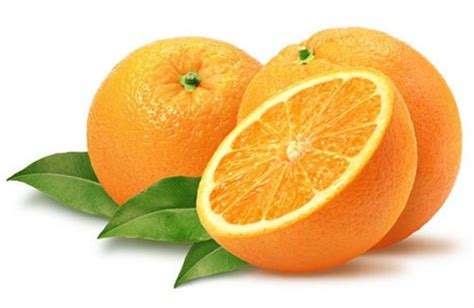orange: (83, 33, 265, 207), (236, 22, 465, 145)
